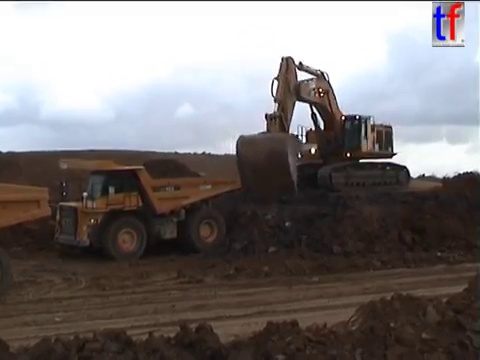excavator: (232, 53, 413, 200)
truck: (53, 155, 241, 262), (1, 178, 54, 301)
